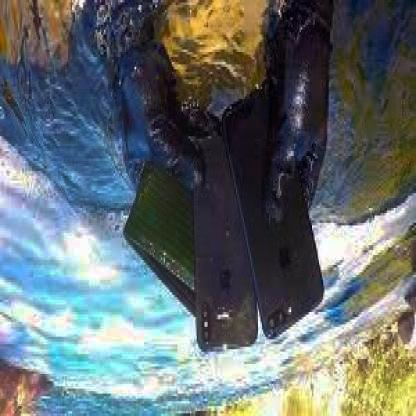cellphone: (229, 89, 327, 339), (192, 141, 257, 352)
